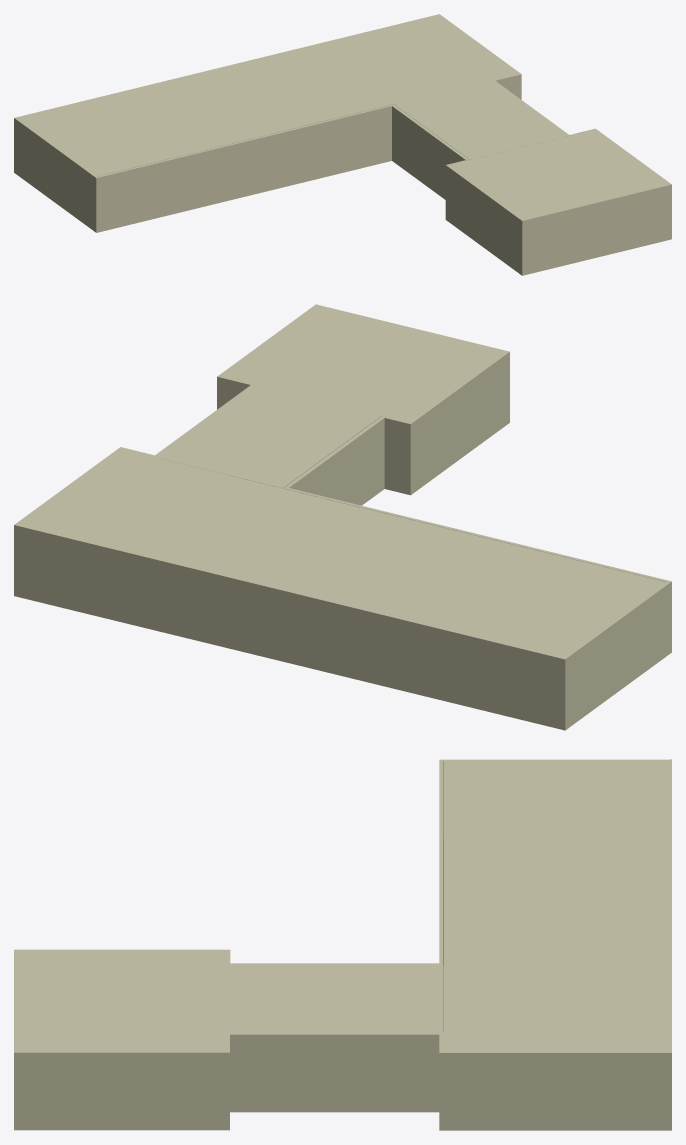
Rendered from pervoe_pomeschenie.fbx.
3 renders of one model, top to bottom at view 1: azimuth 30°, elevation 25°; view 2: azimuth 150°, elevation 25°; view 3: azimuth 270°, elevation 25°, orthographic. The views are drawn at different scales.
Parts seen in each view (by area): view 1: Cube.005; view 2: Cube.005; view 3: Cube.005.
Boxes of the visible parts, <box> form: Cube.005: <box>14,14,671,275</box>; Cube.005: <box>14,304,671,730</box>; Cube.005: <box>14,759,671,1130</box>.
Bounding box in the file's own units: 7198 × 893 × 6818.
